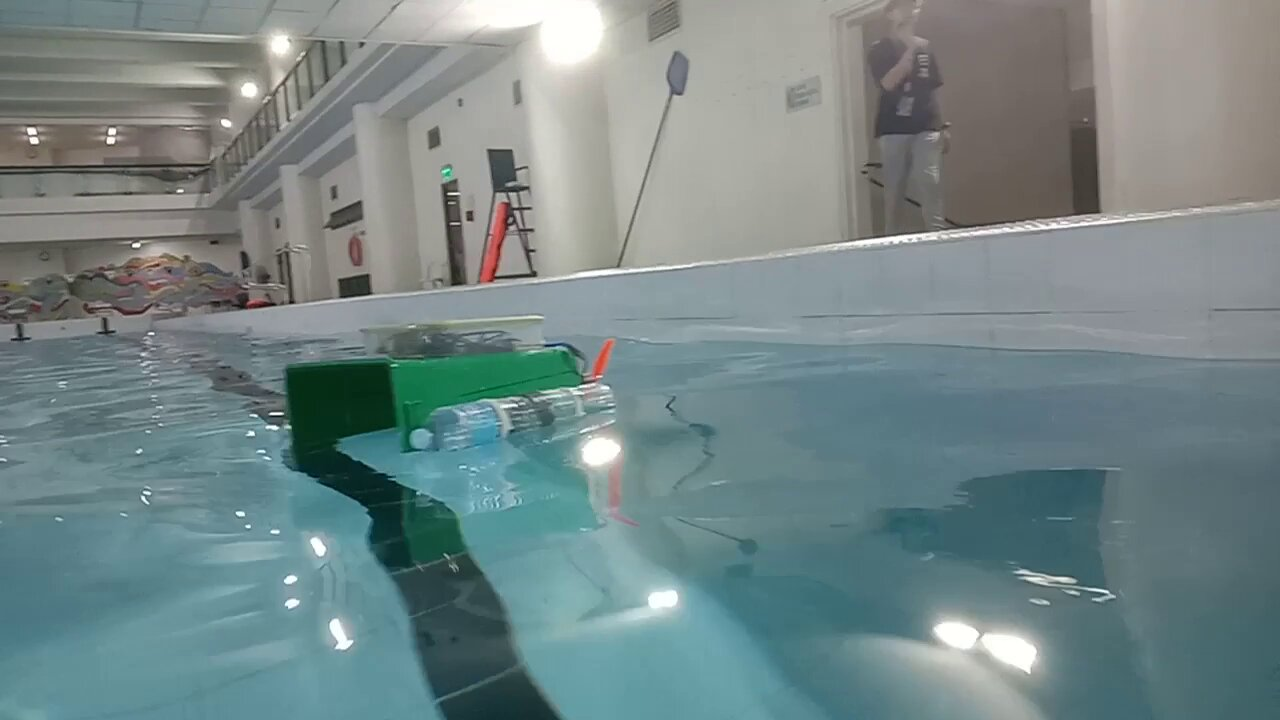drone: (284, 313, 615, 453)
